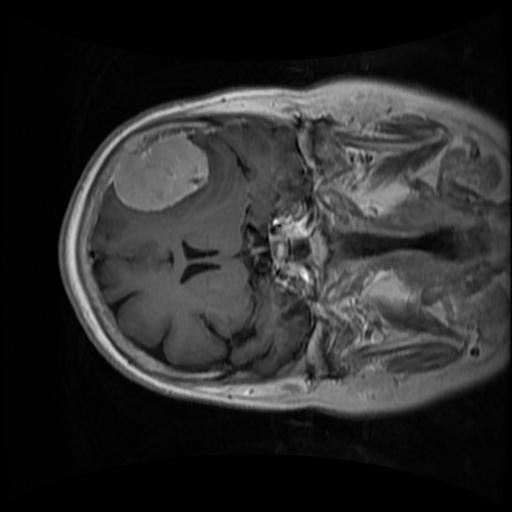meningioma: (113, 136, 209, 211)
